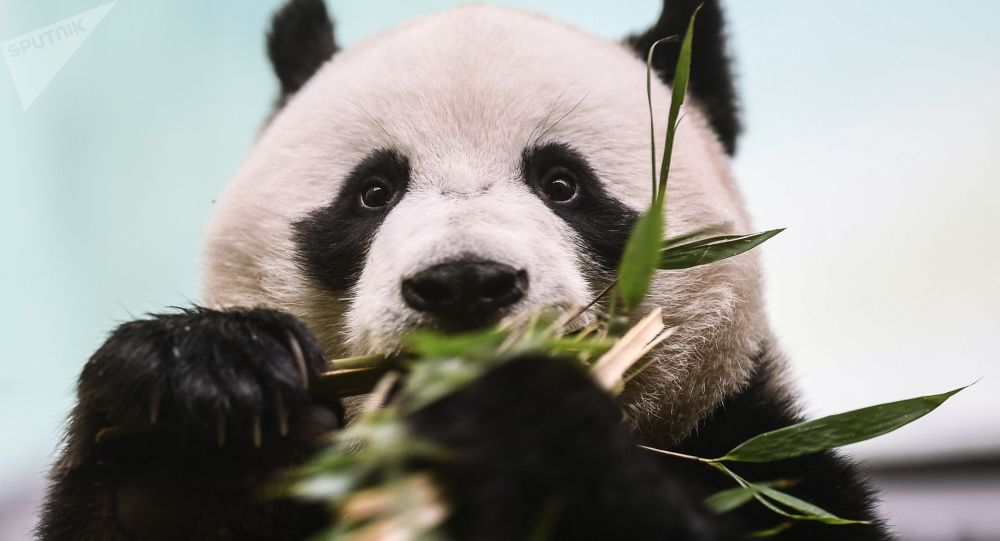panda: (62, 2, 956, 530)
